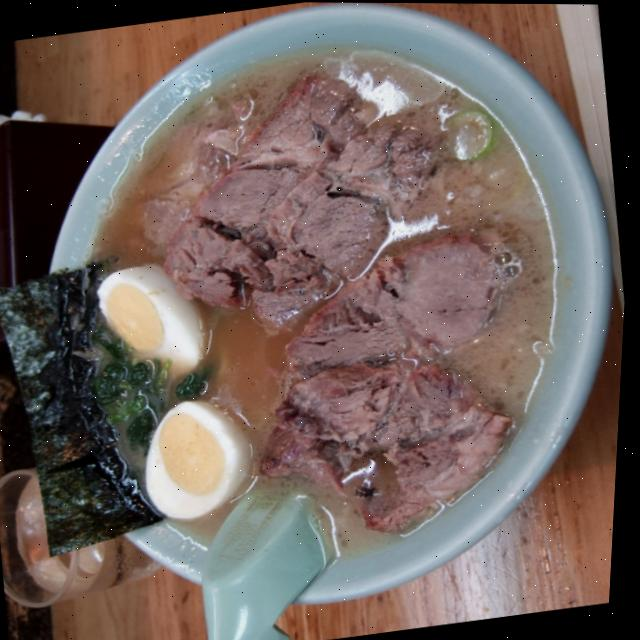面条主食: (37, 5, 598, 600)
